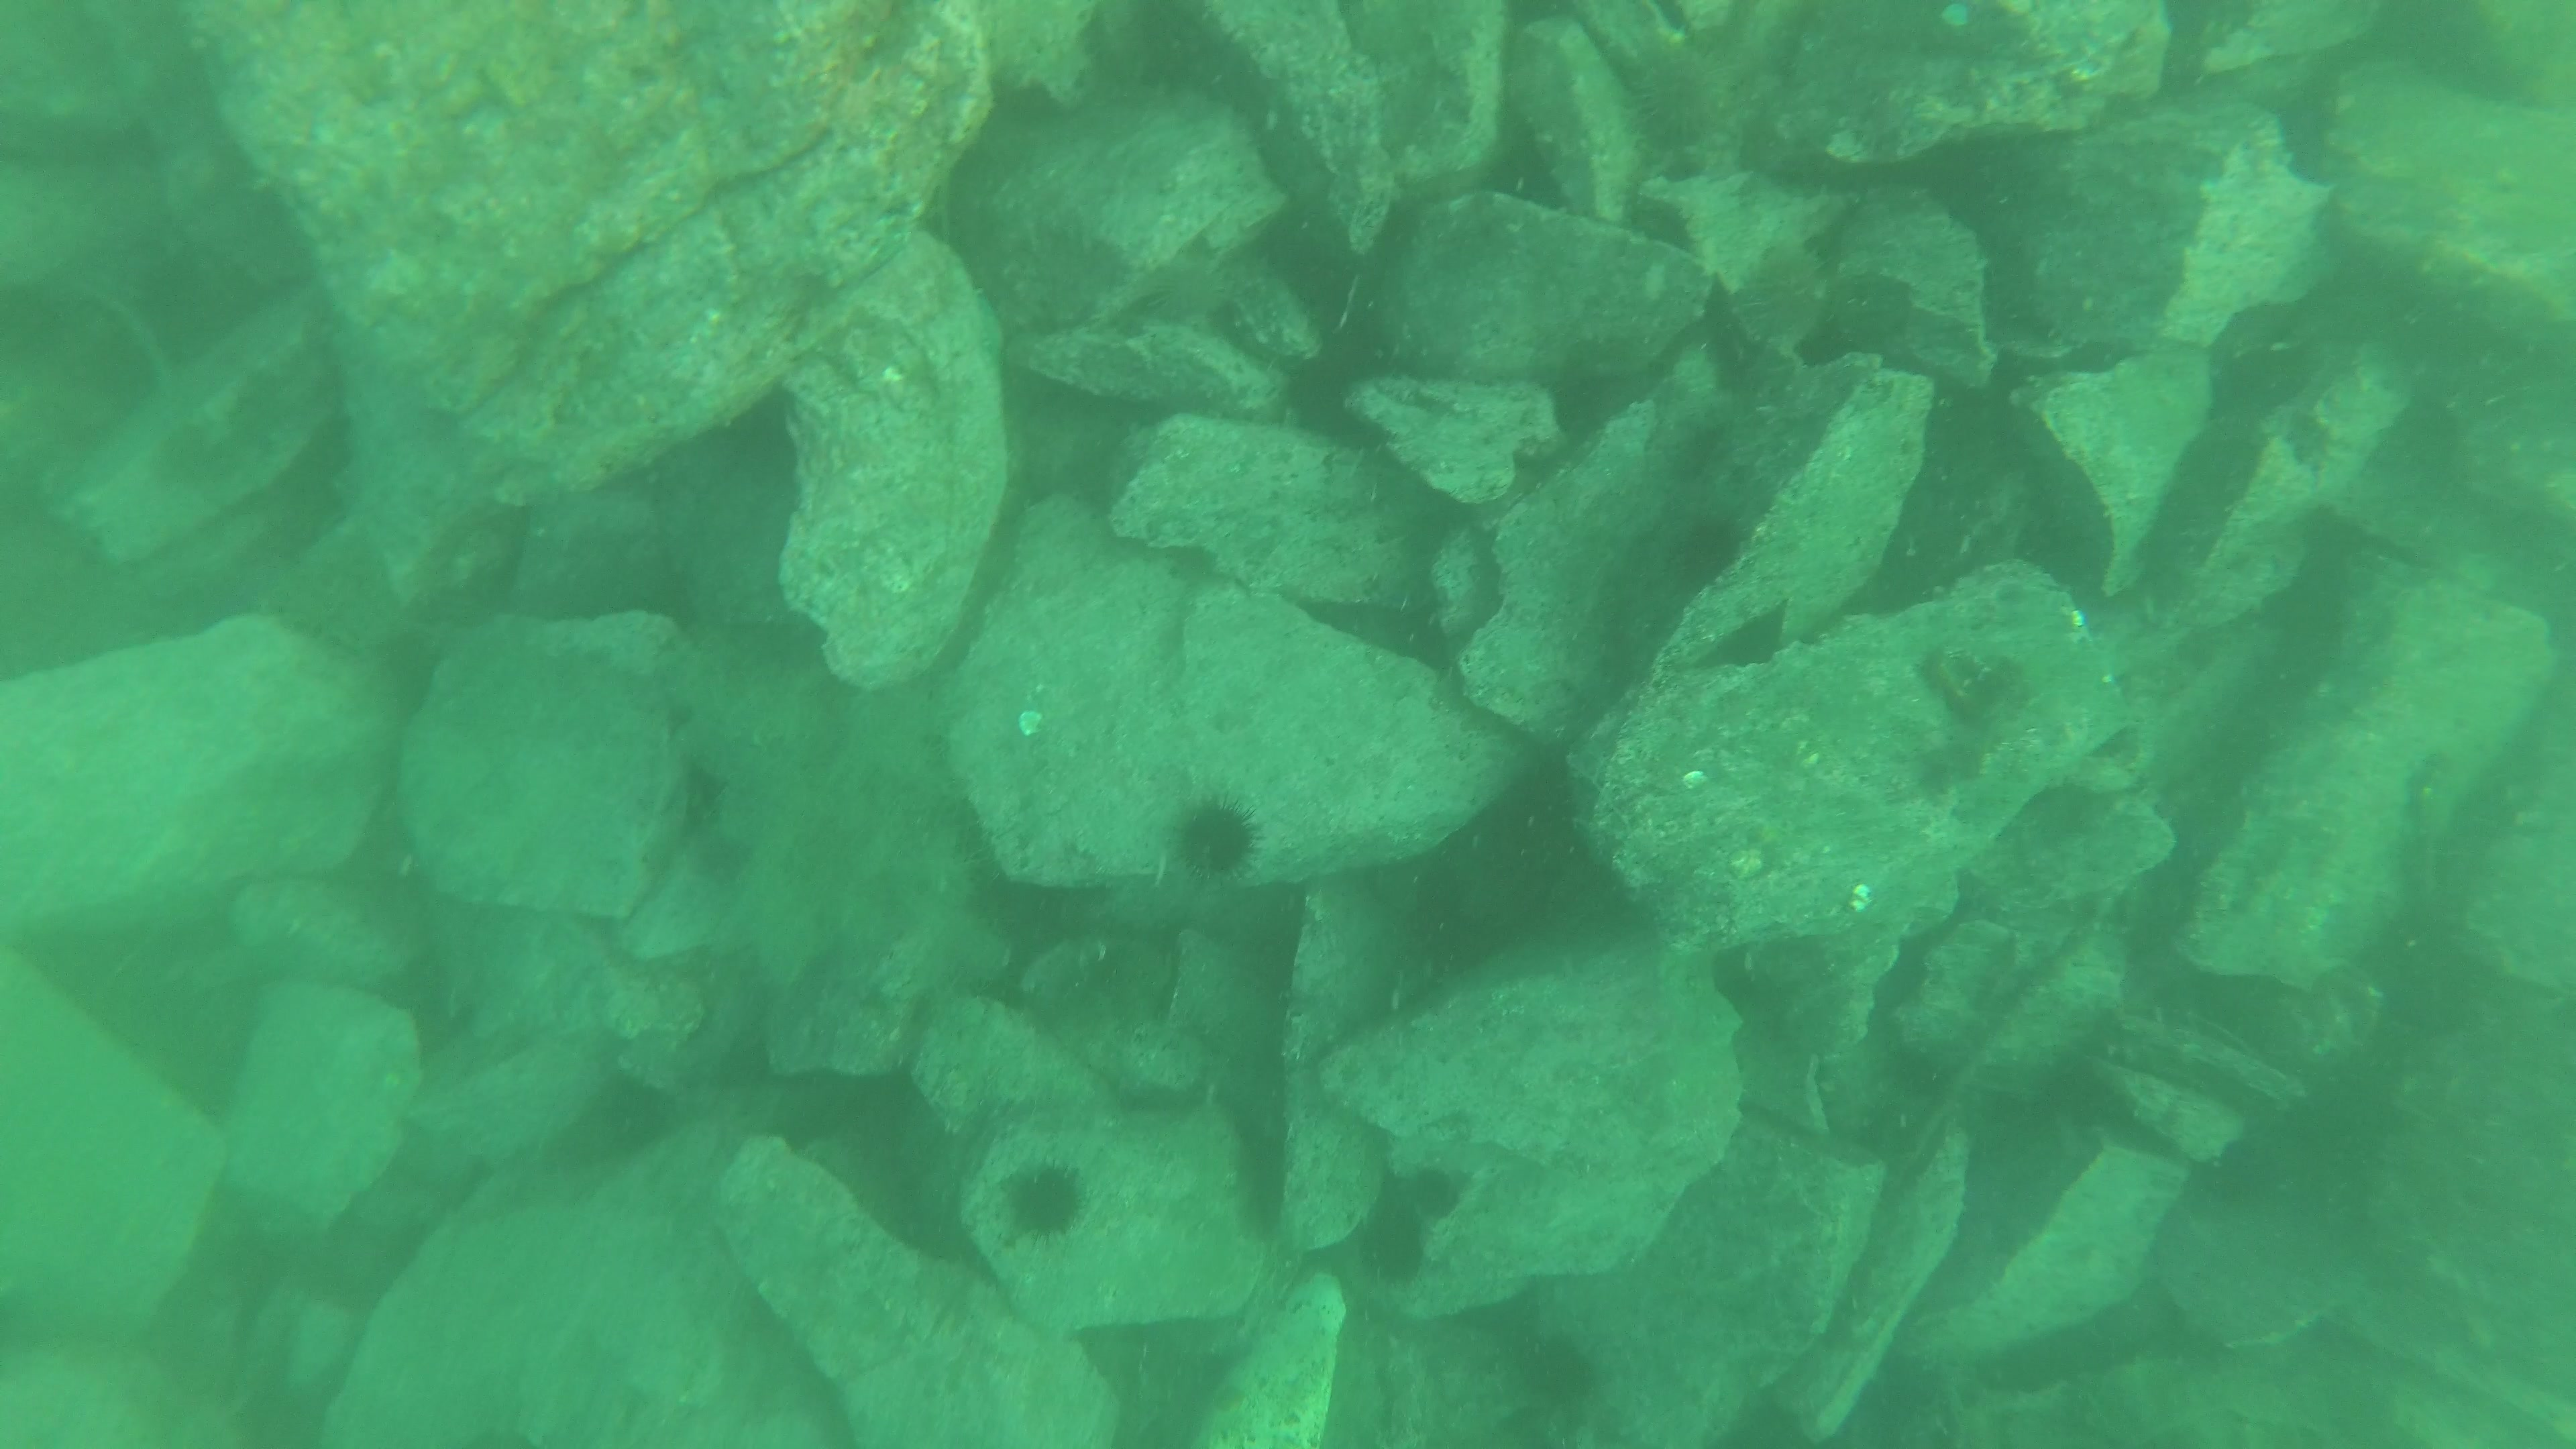echinus: (1177, 796, 1267, 879), (1005, 1161, 1085, 1240)
